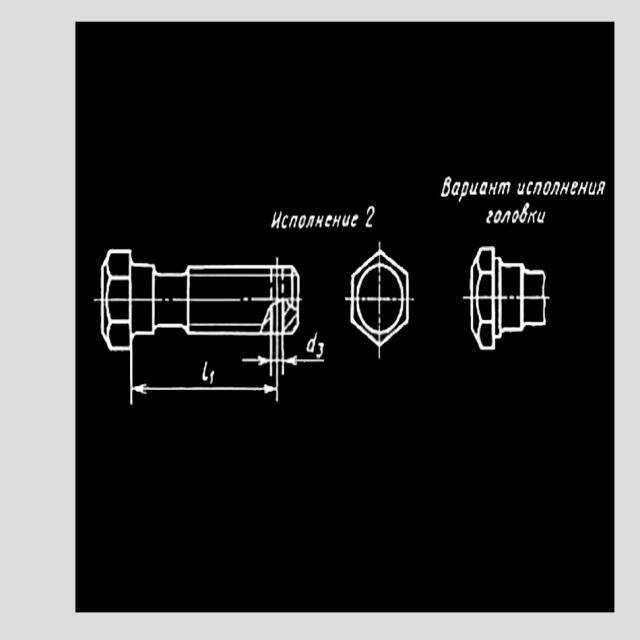marking_line: (131, 385, 277, 394), (285, 353, 327, 369), (242, 352, 269, 368)
numeric: (268, 206, 359, 232), (364, 203, 380, 232)
